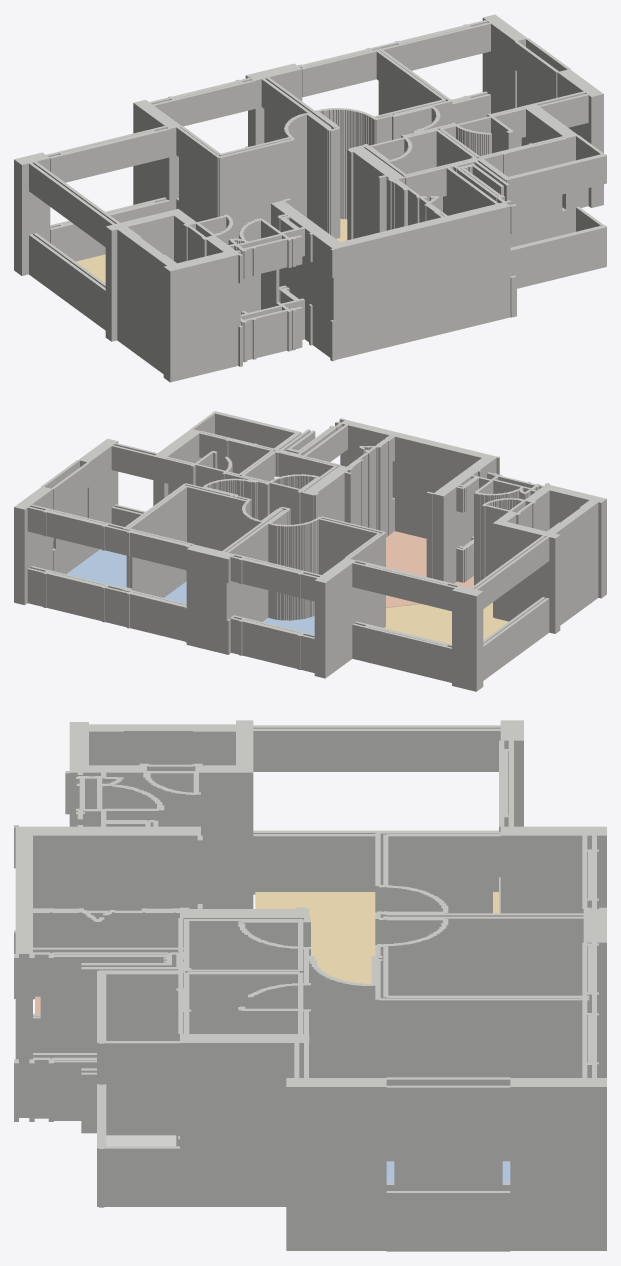
3 views of the same model, one above another, from view 1: azimuth 30°, elevation 25°; view 2: azimuth 150°, elevation 25°; view 3: azimuth 270°, elevation 25° (orthographic). The views are drawn at different scales.
Visible parts, largest first — view 1: walls, room:living:9; view 2: walls, room:living:9, room:kitchen:5, room:bedroom:0, room:bedroom:8; view 3: walls, room:living:9, room:ledge:3.
Boxes of the visible parts, box(x1,y1,x2,y2) form: walls: box(14, 14, 606, 382); room:living:9: box(76, 218, 347, 283); walls: box(14, 411, 606, 691); room:living:9: box(384, 602, 508, 644); room:kitchen:5: box(386, 531, 473, 607); room:bedroom:0: box(66, 549, 126, 588); room:bedroom:8: box(263, 616, 314, 634); walls: box(14, 720, 606, 1251); room:living:9: box(255, 892, 498, 983); room:ledge:3: box(106, 1135, 176, 1146).
Size of the model in its own units: 13.46 by 2.8 by 9.18.
